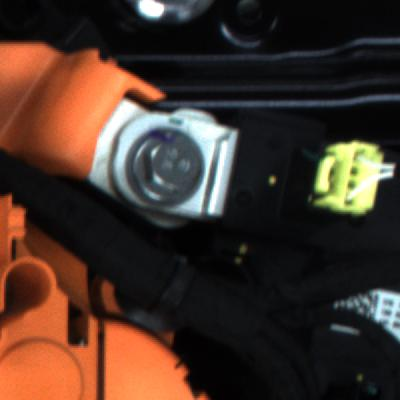nut_b: (120, 124, 219, 215)
